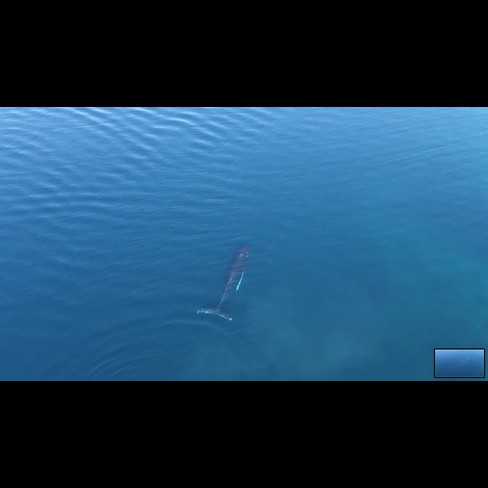hump: (192, 235, 255, 327)
